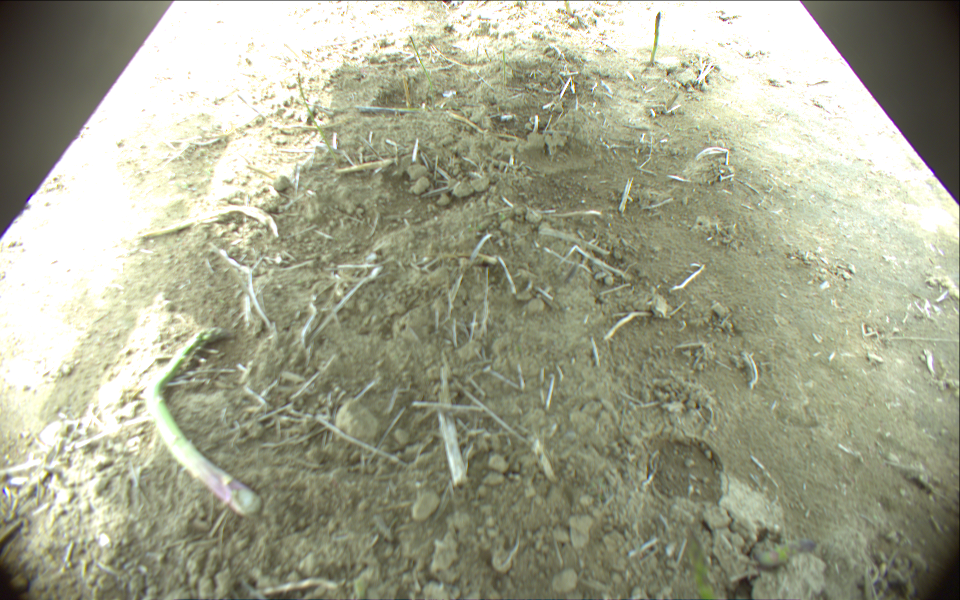aspa: (144, 327, 262, 517), (410, 35, 441, 103), (297, 73, 322, 135), (650, 9, 662, 66)
